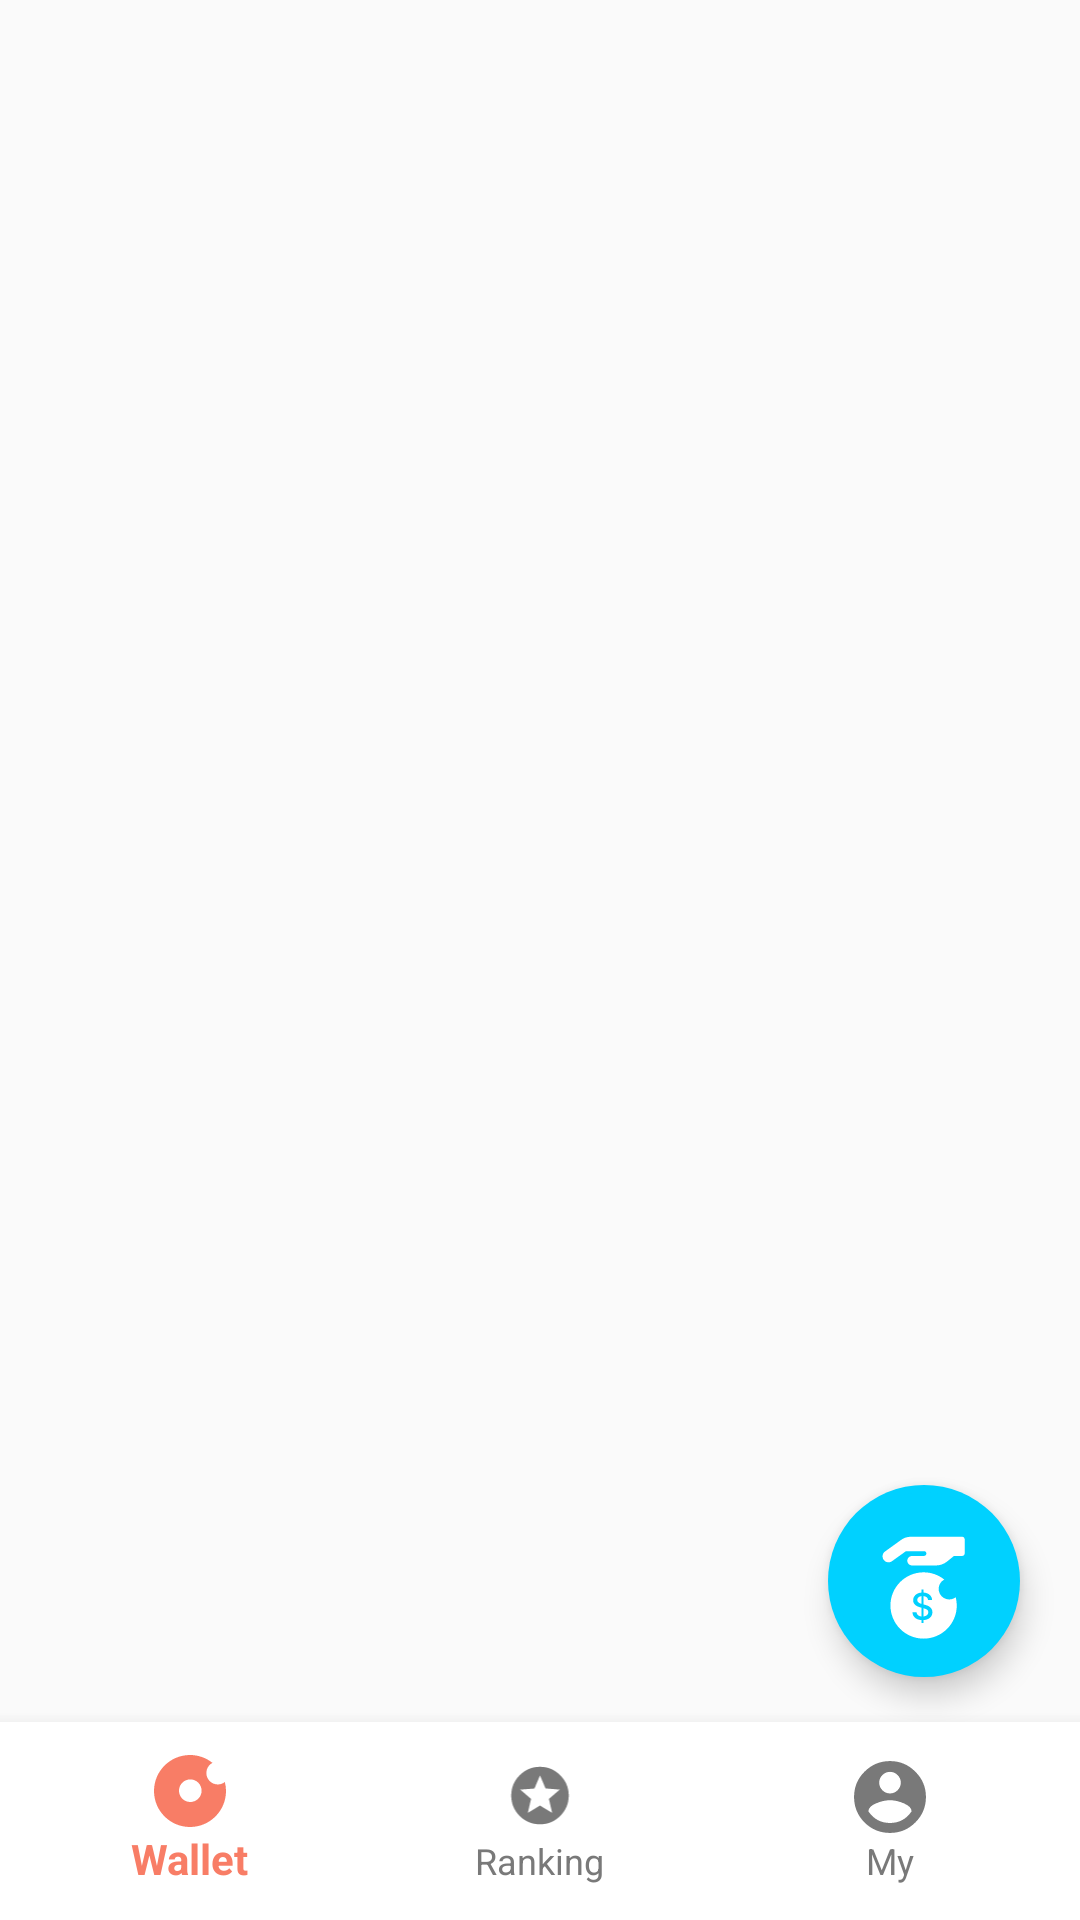

Where icons sit on this 1080px x 1920px app screen, as box(x1, y1, x2, y2):
floating receiver: box(828, 1485, 1020, 1677)
